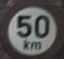Speed limit: (5, 4, 54, 51)
